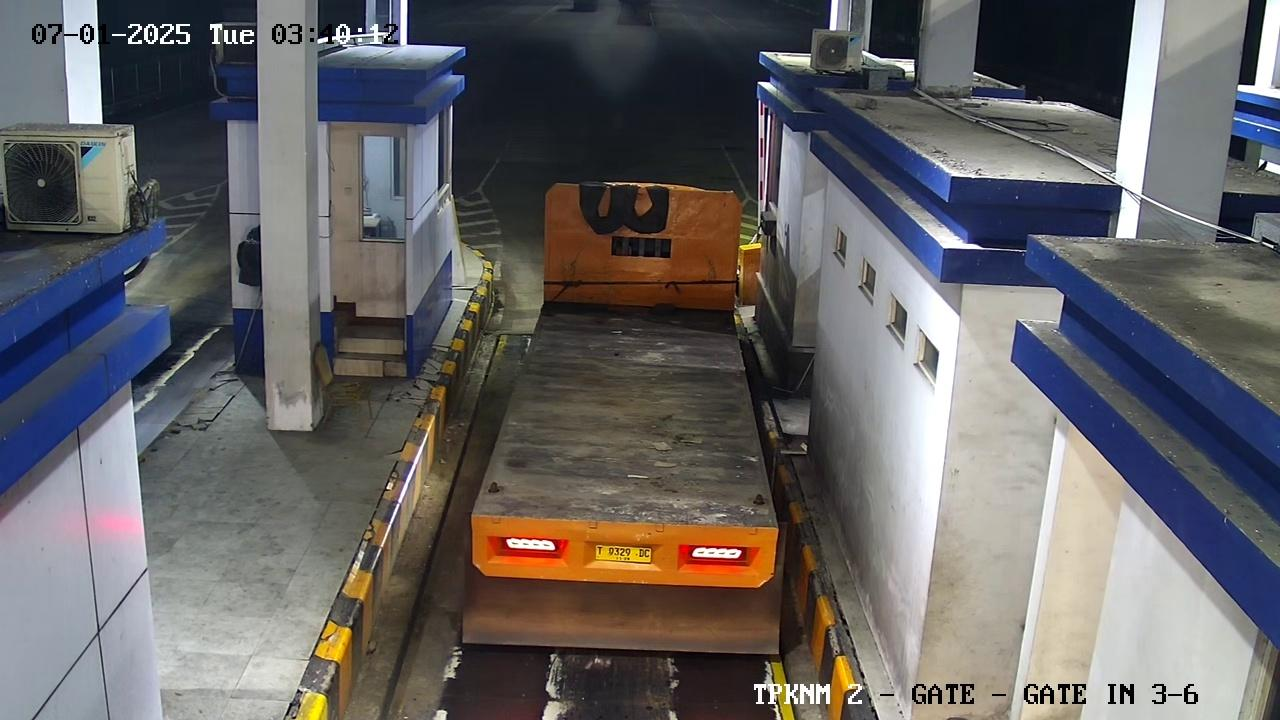plate_number: (578, 533, 663, 571)
